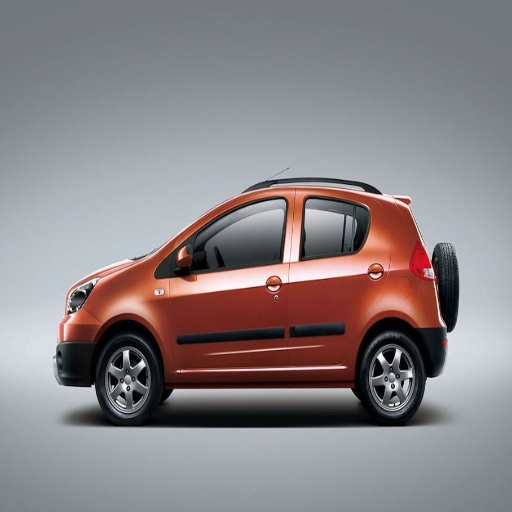back_left_door: (287, 189, 386, 365)
front_left_door: (169, 190, 294, 371)
